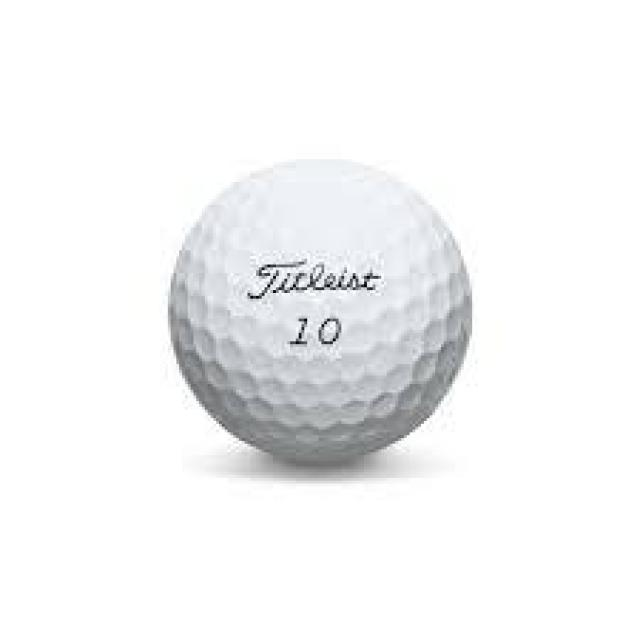ball: (162, 150, 478, 472)
